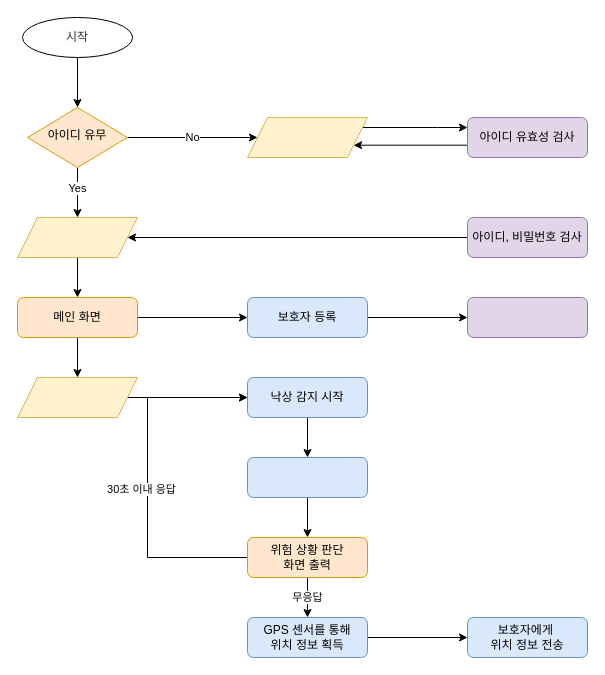
Image size: 605x675. Some labels were removed from this diagram. The shapes that lost their labels are listed below. From the top down, each one's centre as x and y in pixels, then its label:
point (307, 137): 회원가입
point (77, 237): 로그인
point (527, 317): 보호자 연락처 및 정보 저장
point (77, 397): 감지 시작 버튼 클릭
point (307, 477): 낙상 이벤트 발생
